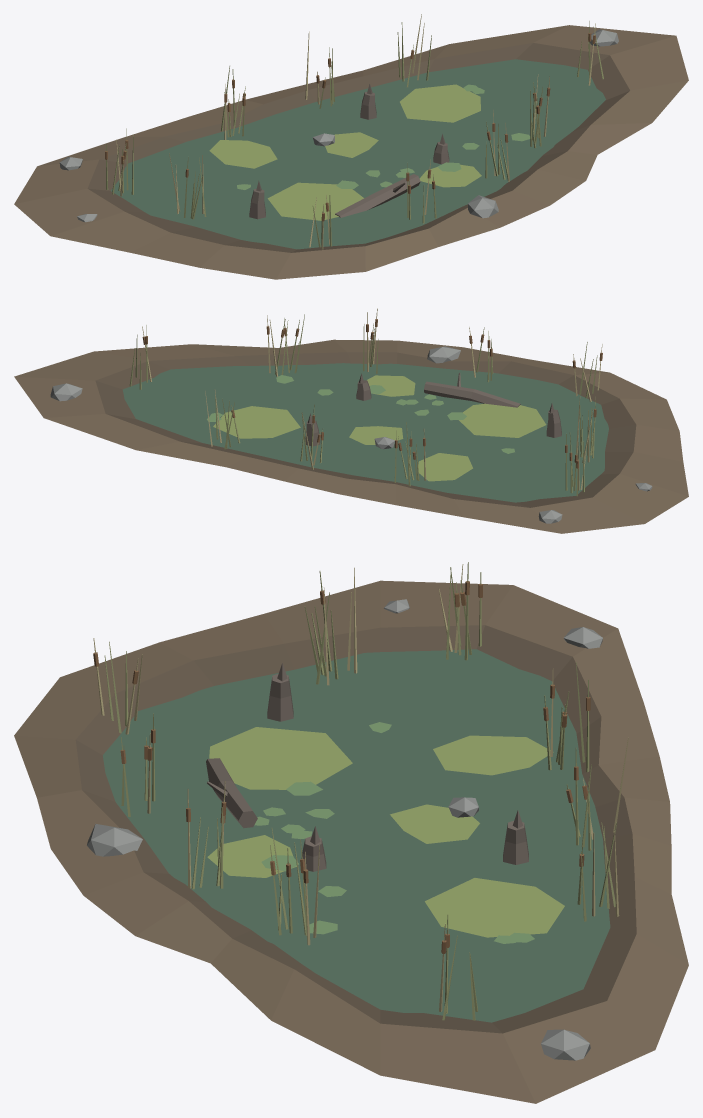
The model's file is Swamp_Pond.fbx.
3 renders of one model, top to bottom at view 1: azimuth 30°, elevation 25°; view 2: azimuth 150°, elevation 25°; view 3: azimuth 270°, elevation 25°, orthographic. The views are drawn at different scales.
Visible parts, largest first — view 1: Swamp_Pond; view 2: Swamp_Pond; view 3: Swamp_Pond.
Boxes of the visible parts, box(x1,y1,x2,y2) form: Swamp_Pond: box(14, 14, 688, 279); Swamp_Pond: box(14, 308, 688, 533); Swamp_Pond: box(14, 562, 688, 1103).
Bounding box in the file's own units: 19.77 × 2.13 × 10.78.
